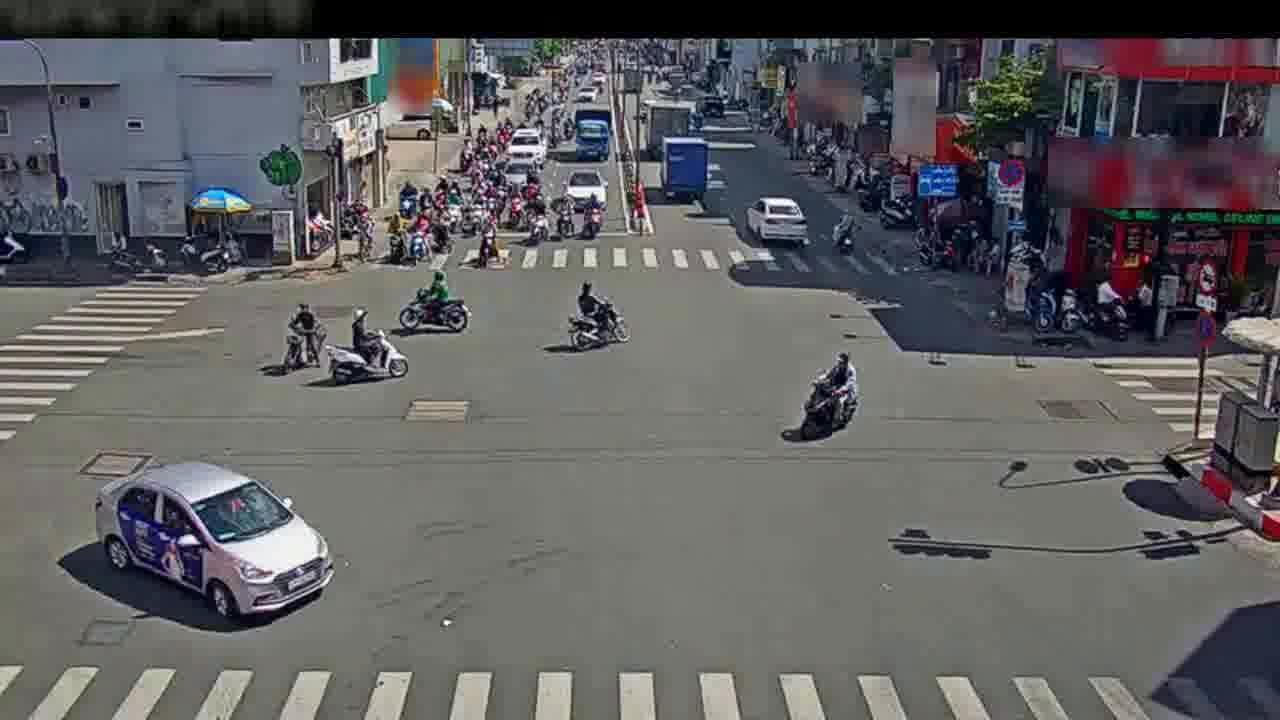car: (91, 454, 337, 625), (745, 194, 805, 251), (565, 164, 604, 222), (505, 130, 546, 176)
container: (664, 141, 711, 202), (568, 103, 612, 163)
motorbike: (324, 306, 404, 386), (799, 350, 863, 436), (398, 269, 471, 337), (564, 280, 626, 354), (278, 297, 325, 376), (348, 205, 379, 268), (473, 214, 500, 275), (832, 206, 858, 263), (522, 197, 549, 251), (578, 188, 603, 245), (551, 196, 577, 246), (409, 219, 432, 271), (385, 210, 405, 261), (435, 210, 447, 256)
